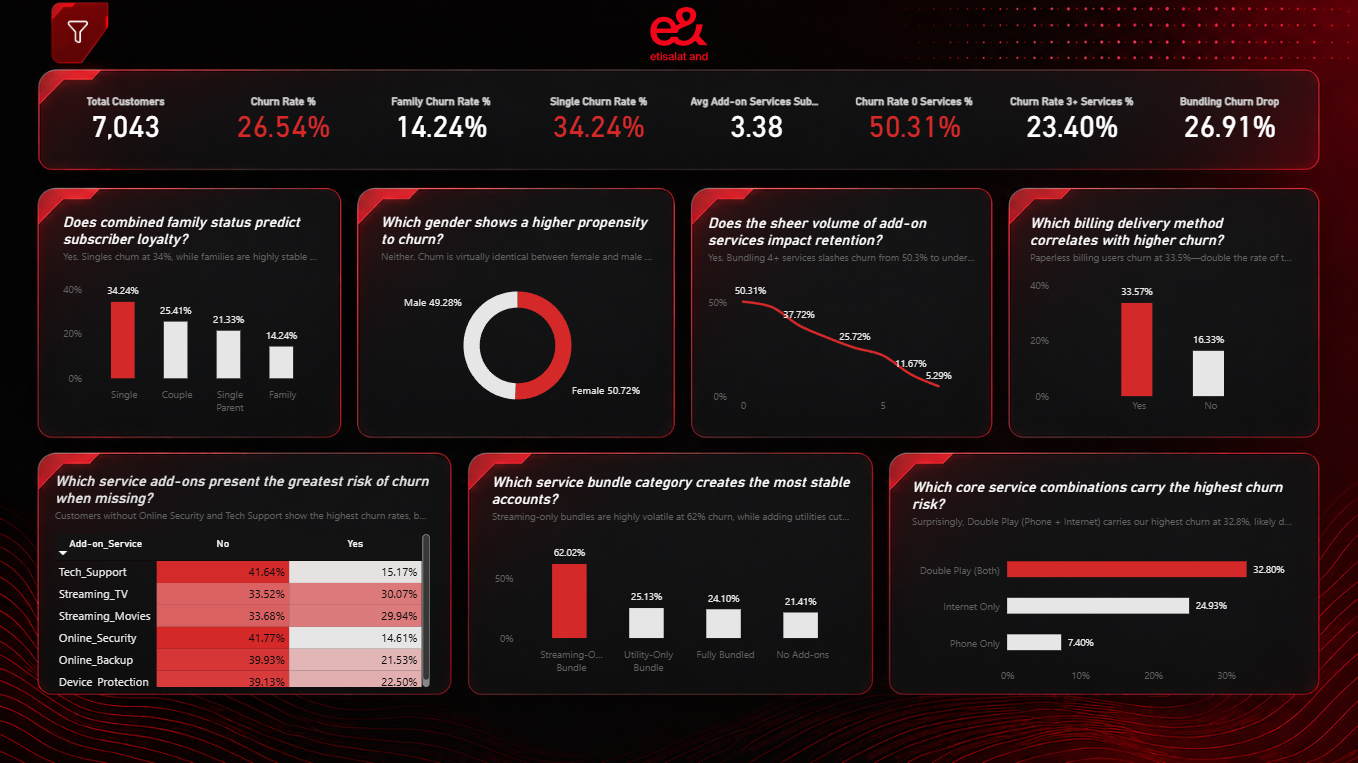

Layout of this report page (visuals, bound fields, positions):
{"tool":"powerbi","page":{"name":"Customer Demographics & Value Bundling Optimization","canvas":[1920,1080],"ordinal":2},"visuals":[{"type":"cardVisual","fields":{"Data":["_Measures.Total Customers","_Measures.Churn Rate %","_Measures.Family Churn Rate %","_Measures.Single Churn Rate %","_Measures.Avg Add-on Services Subscribed","_Measures.Churn Rate 0 Services %","_Measures.Churn Rate 3 Services %","_Measures.Bundling Churn Drop"]},"box":[186,162,1546,104],"z":0},{"type":"clusteredColumnChart","title":"Does combined family status predict subscriber loyalty?","fields":{"Category":["Dim_Customer.Household_Segment"],"Y":["_Measures.Churn Rate %"]},"box":[185.6,316.7,344.4,278.9],"z":1000},{"type":"donutChart","title":"Which gender shows a higher propensity to churn?","fields":{"Category":["Dim_Customer.gender"],"Y":["_Measures.Churn Rate %"]},"box":[576.7,316.7,367.8,278.9],"z":2000},{"type":"lineChart","title":"Does the sheer volume of add-on services impact retention?","fields":{"Category":["Dim_Service.Services-on_Count"],"Y":["_Measures.Churn Rate %"]},"box":[978.6,317.1,360,278.6],"z":3000},{"type":"pivotTable","title":"Which service add-ons present the greatest risk of churn when missing?","fields":{"Columns":["Dim_Service_Unpivoted.Subscription_Status"],"Rows":["Dim_Service_Unpivoted.Add-on_Service"],"Values":["_Measures.Churn Rate %"]},"box":[176.2,635,492.5,293.8],"z":5000},{"type":"image","box":[914.3,65.7,91.4,87.1],"z":6000},{"type":"barChart","title":"Which core service combinations carry the highest churn risk?","fields":{"Category":["Dim_Service.Core_Service_Bundle"],"Y":["_Measures.Churn Rate %"]},"box":[1230,642.5,502.5,286.2],"z":7000},{"type":"clusteredColumnChart","title":"Which service bundle category creates the most stable accounts?","fields":{"Category":["Dim_Service.Value Bundle Class"],"Y":["_Measures.Churn Rate %"]},"box":[712.9,635.7,475.7,278.6],"z":8000},{"type":"clusteredColumnChart","title":"Which billing delivery method correlates with higher churn?","fields":{"Category":["Dim_Contract.Paperless_Billing"],"Y":["_Measures.Churn Rate %"]},"box":[1375.7,317.1,355.7,278.6],"z":9000},{"type":"image","box":[182.2,66.5,89.1,83.8],"z":11000}]}

Visuals, with their boxes in screenshot pixels (x1, y1, x2, y2), scaled from the page's 1920x1080 canvas onto the 1358x763 screenshot:
cardVisual - _Measures.Total Customers x _Measures.Churn Rate %: x1=132, y1=114, x2=1225, y2=188
"Does combined family status predict subscriber loyalty?" clusteredColumnChart: x1=131, y1=224, x2=375, y2=421
"Which gender shows a higher propensity to churn?" donutChart: x1=408, y1=224, x2=668, y2=421
"Does the sheer volume of add-on services impact retention?" lineChart: x1=692, y1=224, x2=947, y2=421
"Which service add-ons present the greatest risk of churn when missing?" pivotTable: x1=125, y1=449, x2=473, y2=656
image: x1=647, y1=46, x2=711, y2=108
"Which core service combinations carry the highest churn risk?" barChart: x1=870, y1=454, x2=1225, y2=656
"Which service bundle category creates the most stable accounts?" clusteredColumnChart: x1=504, y1=449, x2=841, y2=646
"Which billing delivery method correlates with higher churn?" clusteredColumnChart: x1=973, y1=224, x2=1225, y2=421
image: x1=129, y1=47, x2=192, y2=106
